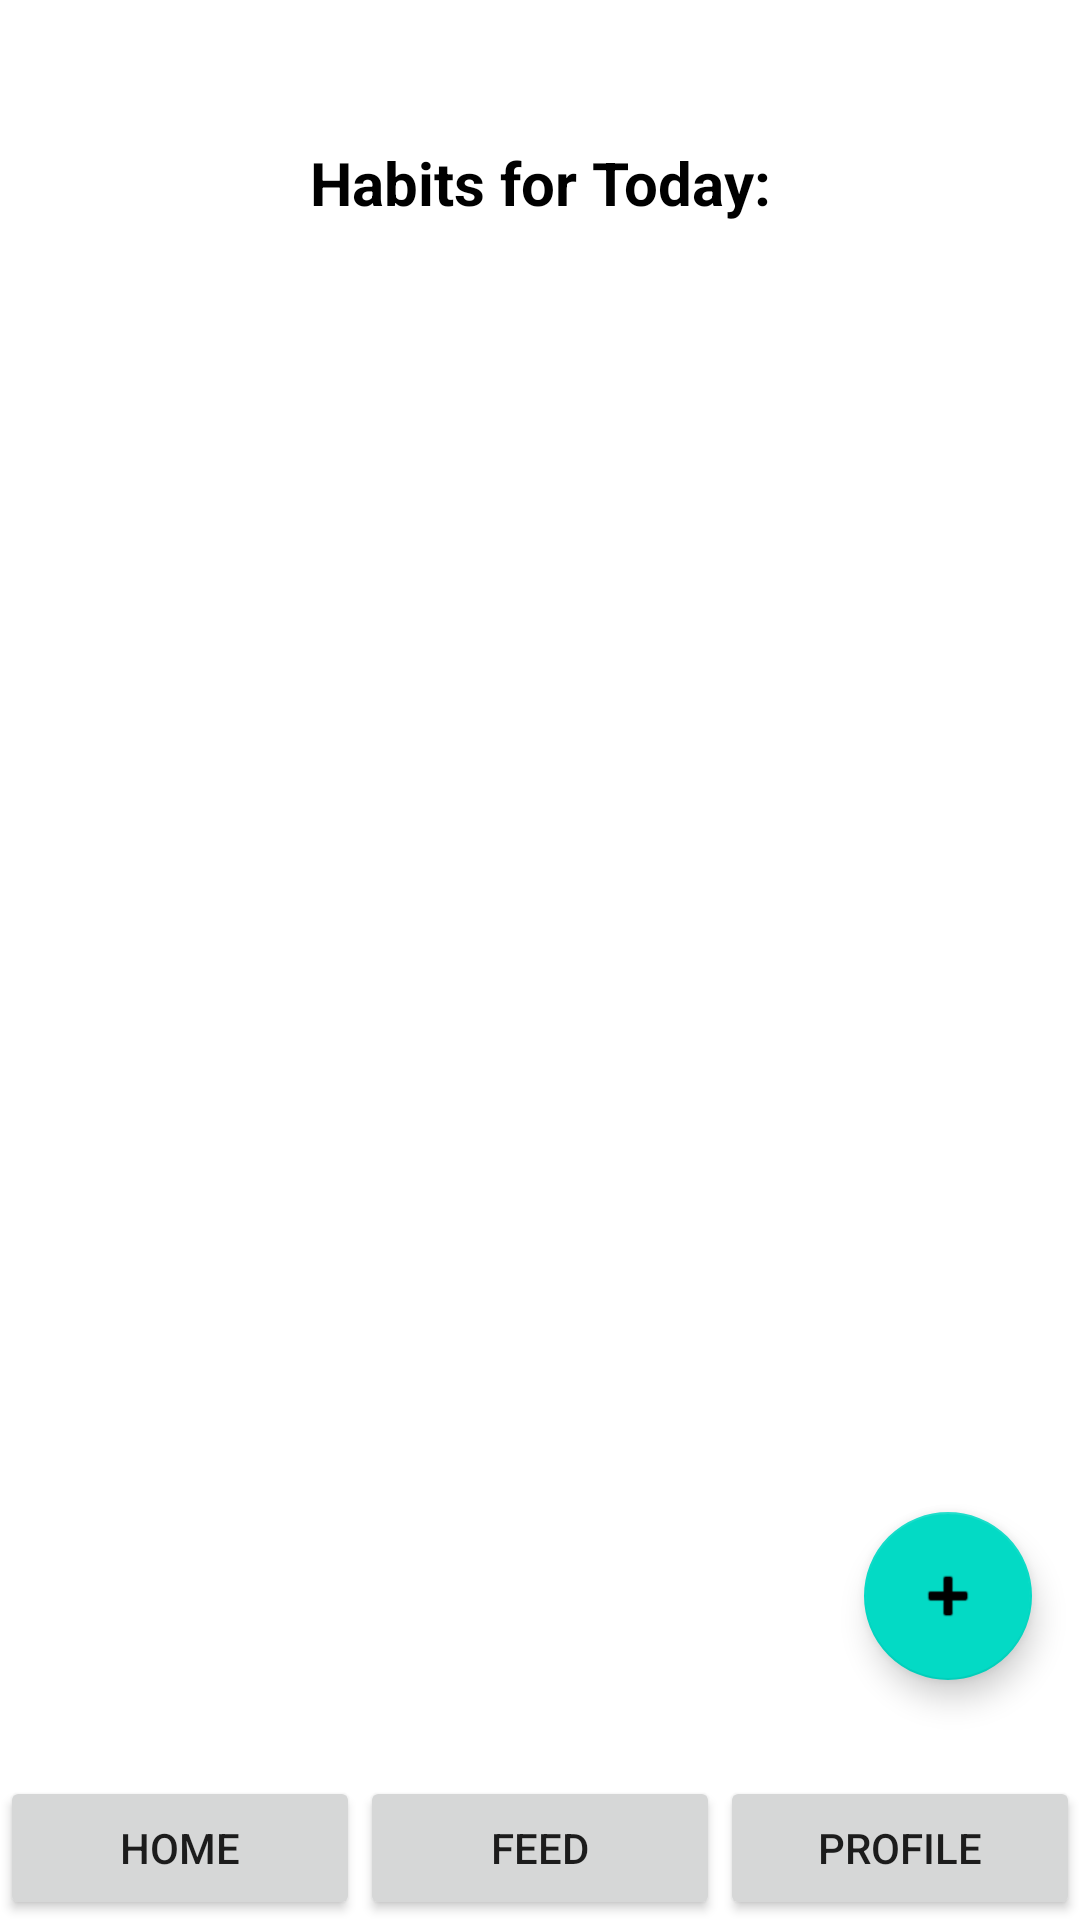

Icon bounding boxes for this 1080 × 1920 phone screenshot, format BBox(x1, y1, x2, y2):
add: BBox(864, 1512, 1032, 1680)
